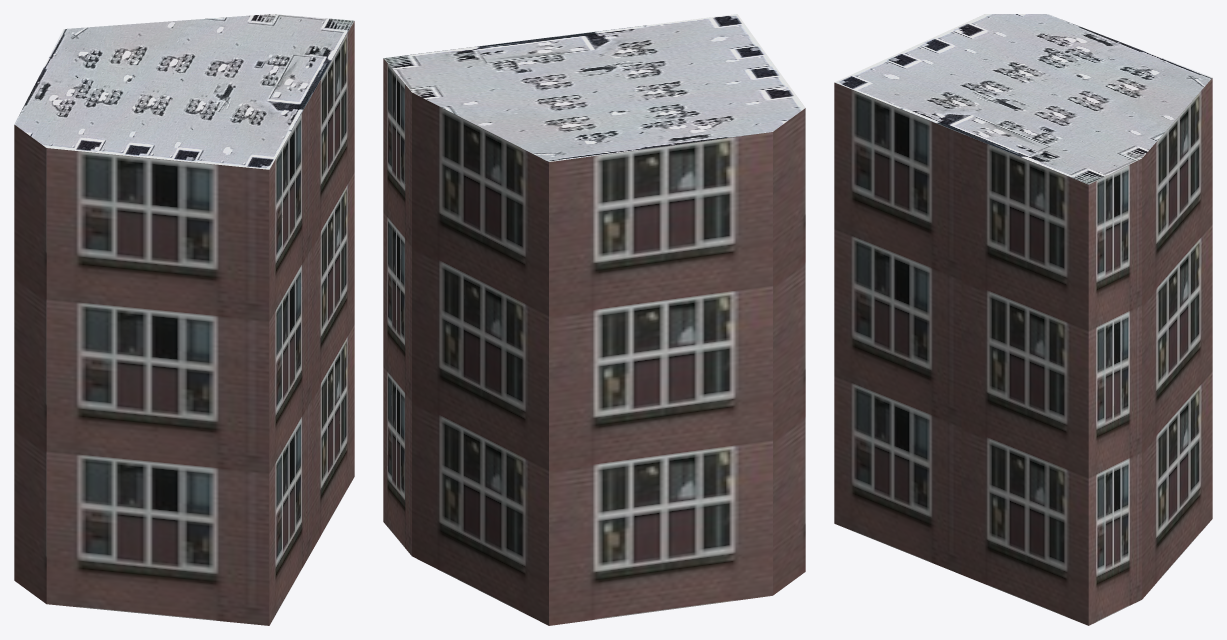
The model's file is ResTex__4165.fbx.
3 views of the same model, side by side, from view 1: azimuth 30°, elevation 25°; view 2: azimuth 150°, elevation 25°; view 3: azimuth 270°, elevation 25° (orthographic). The views are drawn at different scales.
Parts seen in each view (by area): view 1: CityEngineMaterial_12_m, CityEngineMaterial_m; view 2: CityEngineMaterial_12_m, CityEngineMaterial_m; view 3: CityEngineMaterial_12_m, CityEngineMaterial_m.
Part boxes in pixels (x1=…): CityEngineMaterial_12_m: x1=14, y1=21, x2=354, y2=625; CityEngineMaterial_m: x1=14, y1=14, x2=354, y2=169; CityEngineMaterial_12_m: x1=383, y1=58, x2=805, y2=625; CityEngineMaterial_m: x1=383, y1=14, x2=805, y2=161; CityEngineMaterial_12_m: x1=834, y1=78, x2=1212, y2=625; CityEngineMaterial_m: x1=834, y1=14, x2=1212, y2=184.
Size of the model in its own units: 7.47 by 9 by 7.
Materials: 2 (2 with a texture image).
